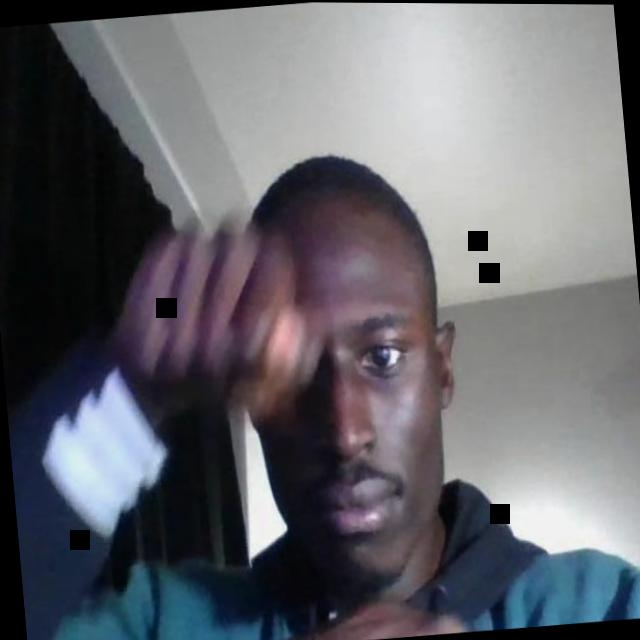NO-Mask: (241, 285, 454, 600)
